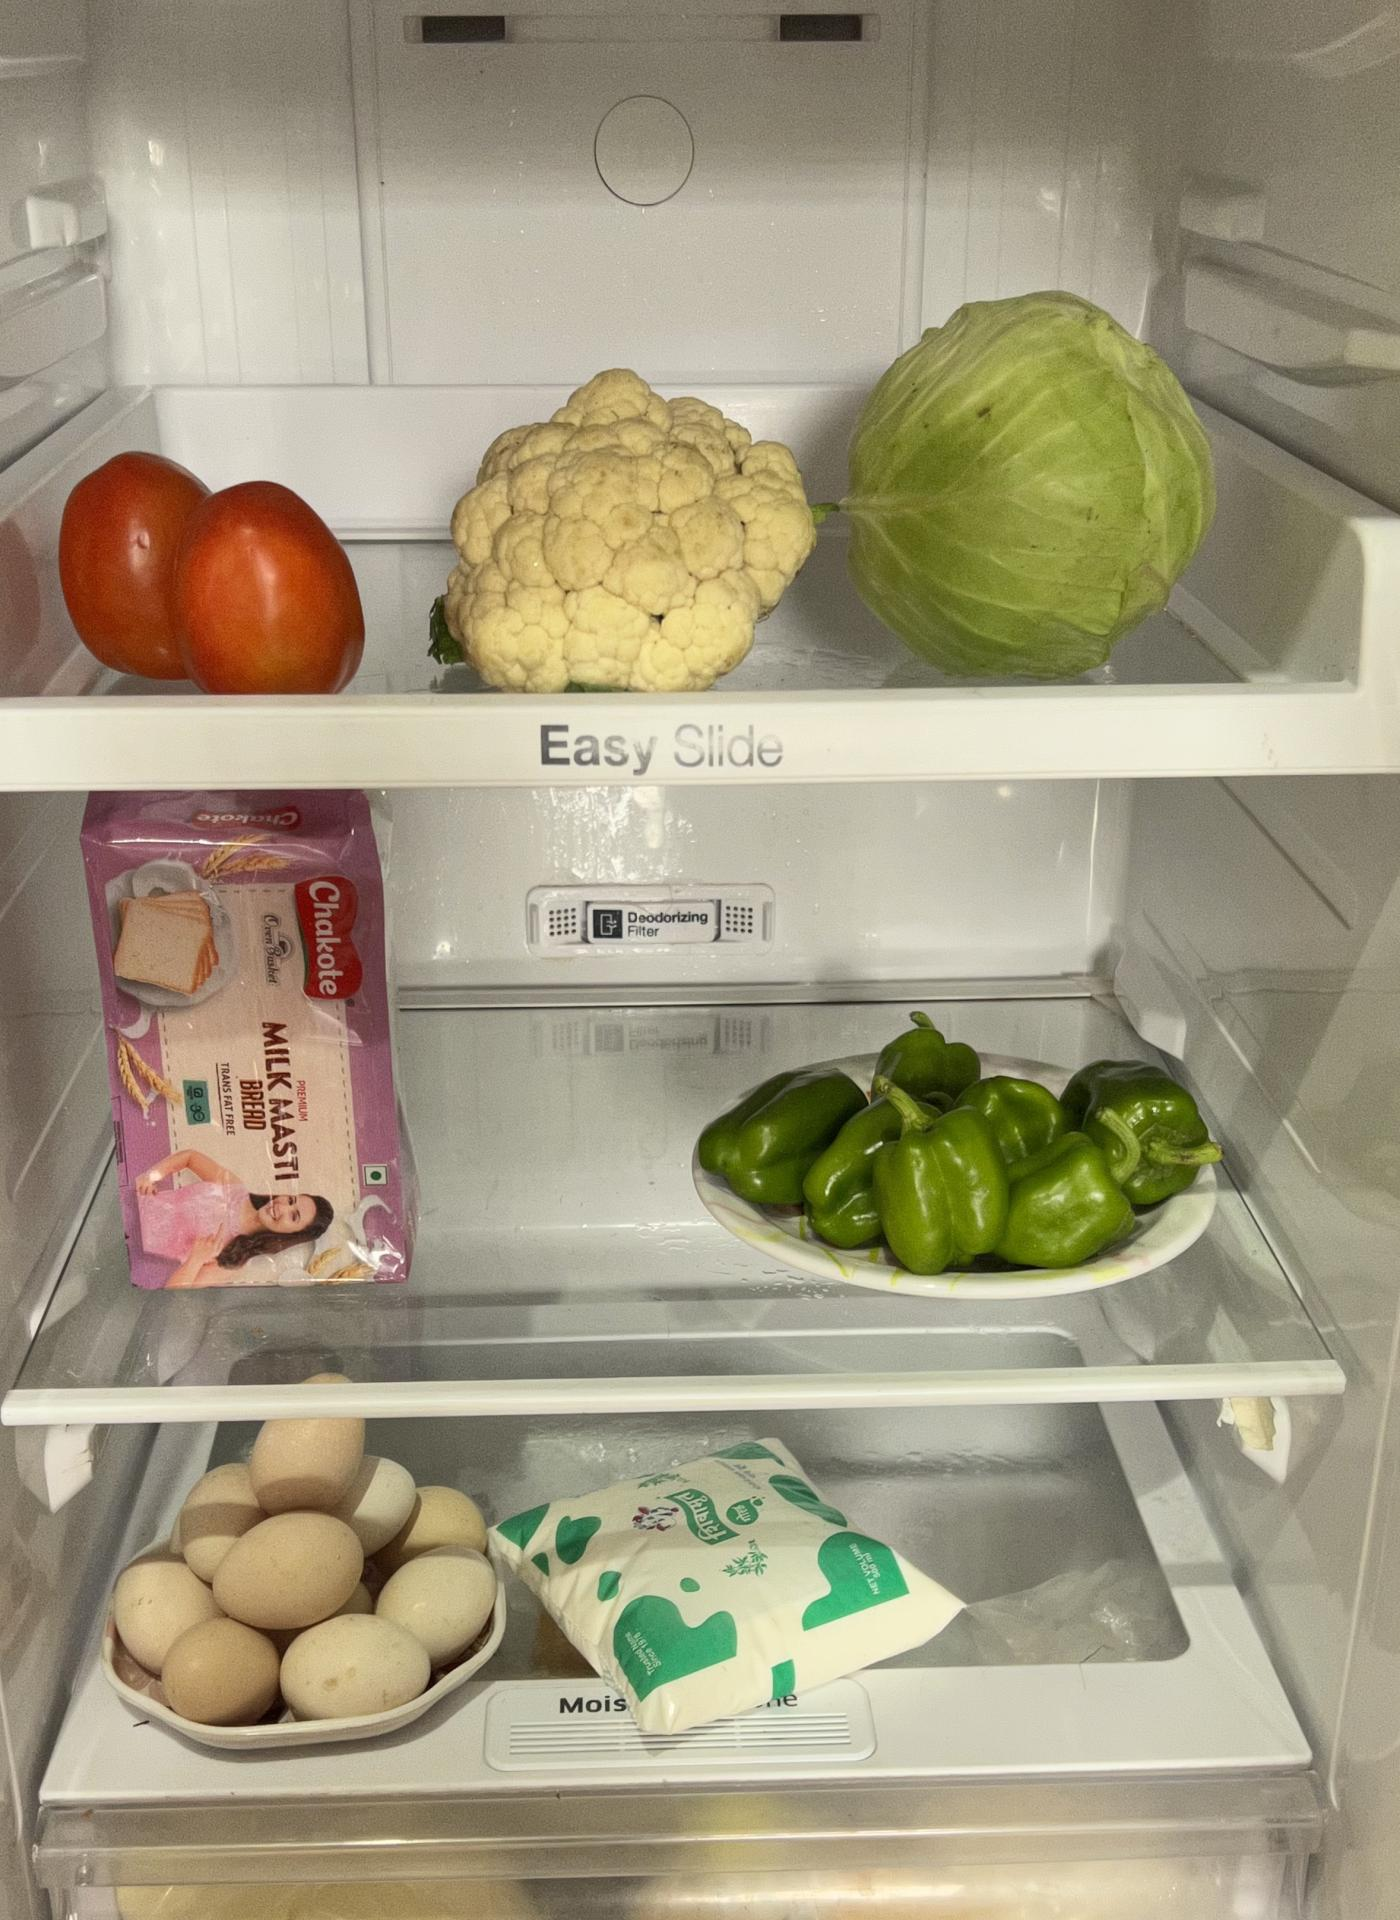bread: (72, 784, 435, 1300)
cabbage: (844, 294, 1199, 650)
capsicum: (698, 1029, 1203, 1266)
cauliflower: (444, 373, 811, 684)
egg: (107, 1431, 494, 1732)
milk: (508, 1434, 951, 1723)
tomato: (64, 453, 362, 689)
